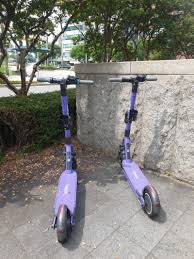kick_board: (37, 76, 93, 243), (107, 73, 159, 215)
kick_body: (58, 173, 75, 207)
kick_handler: (39, 78, 92, 93), (110, 76, 157, 90)
kick_neck: (123, 92, 137, 150), (61, 97, 72, 165)
kick_wheel: (55, 209, 71, 241), (144, 188, 158, 215)
